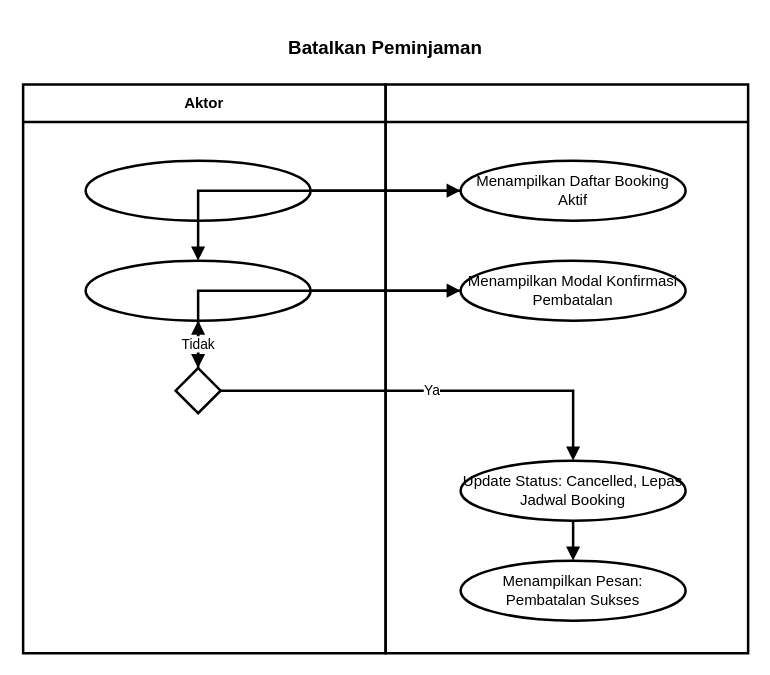
This 770x675 diagram has some shape labels left out. Here are the shapes that lost their labels. From the top down, the box of each, then its label:
(84, 159, 311, 221): Membuka Menu Peminjaman Saya
(84, 259, 311, 321): Memilih Booking & Klik Batal Peminjaman
(384, 82, 749, 654): Sistem
